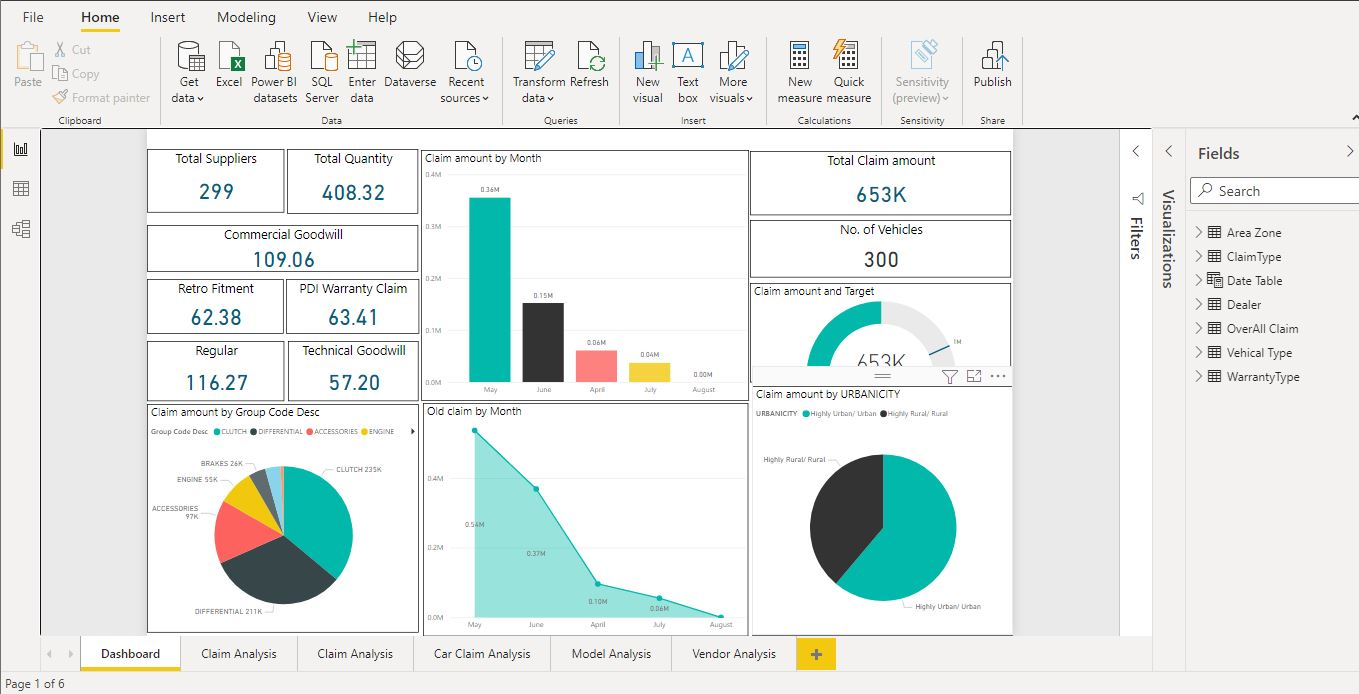

What the dashboard file says about the page in this screenshot:
{"tool":"powerbi","page":{"name":"Dashboard","canvas":[1280,720],"ordinal":0},"visuals":[{"type":"gauge","title":"Claim amount and Target","fields":{"TargetValue":["Sum(Vehical Type.OLDCLAIM)"],"Y":["Sum(Vehical Type.ClaimAMT)"]},"box":[891.4,198.1,386.1,146.7],"z":0},{"type":"card","title":"Total Quantity","fields":{"Values":["Sum(ClaimType.Quantity)"]},"box":[206.7,0,194.1,95.6],"z":1000},{"type":"card","title":"Total Suppliers","fields":{"Values":["Area Zone.Measure 2"]},"box":[0,0,202.5,94.2],"z":2000},{"type":"pieChart","title":"Claim amount by URBANICITY","fields":{"Category":["Vehical Type.URBANICITY"],"Y":["Sum(Vehical Type.ClaimAMT)"]},"box":[893.9,349.8,386.1,368.6],"z":3000},{"type":"columnChart","title":"Claim amount by Month","fields":{"Category":["Date Table.Month"],"Y":["Sum(Vehical Type.ClaimAMT)"]},"box":[404.8,1.7,485.5,371.2],"z":4000},{"type":"card","title":"Technical Goodwill","fields":{"Values":["Area Zone.Claim Type 1"]},"box":[208.3,283.9,193.2,89],"z":5000},{"type":"pieChart","title":"Claim amount by Group Code Desc","fields":{"Category":["WarrantyType.Group Code Desc"],"Y":["Sum(Vehical Type.ClaimAMT)"]},"box":[0,377.4,402.4,338.5],"z":6000},{"type":"stackedAreaChart","title":"Old claim by Month","fields":{"Category":["Date Table.Month"],"Y":["Sum(Vehical Type.OLDCLAIM)"]},"box":[407.4,374.8,481.4,344.8],"z":7000},{"type":"card","title":"Commercial Goodwill","fields":{"Values":["Area Zone.Commercial Goodwill"]},"box":[0,112.5,401.5,68.9],"z":8000},{"type":"card","title":"PDI Warranty Claim","fields":{"Values":["Area Zone.PDI Warranty Claim"]},"box":[204.9,191.5,196.5,80.6],"z":9000},{"type":"card","title":"Regular","fields":{"Values":["Area Zone.Regular"]},"box":[0,283.9,203.3,89],"z":10000},{"type":"card","title":"Retro Fitment","fields":{"Values":["Area Zone.Retro Fitment"]},"box":[0,191.5,201.6,80.6],"z":11000},{"type":"card","title":"Total Claim amount","fields":{"Values":["Sum(Vehical Type.ClaimAMT)"]},"box":[891.4,2.5,386.1,95.3],"z":12000},{"type":"card","title":"No. of Vehicles","fields":{"Values":["Count(Area Zone.VehicleID)"]},"box":[891.4,105.3,386.1,85.2],"z":13000}]}

Visuals, with their boxes on the page's 1280x720 design canvas (x1, y1, x2, y2). These are canvas units, not pixel positions in the 1359x694 screenshot, which may show the page scaled, cropped or inside an application window:
"Claim amount and Target" gauge: BBox(891, 198, 1278, 345)
"Total Quantity" card: BBox(207, 0, 401, 96)
"Total Suppliers" card: BBox(0, 0, 202, 94)
"Claim amount by URBANICITY" pieChart: BBox(894, 350, 1280, 718)
"Claim amount by Month" columnChart: BBox(405, 2, 890, 373)
"Technical Goodwill" card: BBox(208, 284, 402, 373)
"Claim amount by Group Code Desc" pieChart: BBox(0, 377, 402, 716)
"Old claim by Month" stackedAreaChart: BBox(407, 375, 889, 720)
"Commercial Goodwill" card: BBox(0, 112, 402, 181)
"PDI Warranty Claim" card: BBox(205, 192, 401, 272)
"Regular" card: BBox(0, 284, 203, 373)
"Retro Fitment" card: BBox(0, 192, 202, 272)
"Total Claim amount" card: BBox(891, 2, 1278, 98)
"No. of Vehicles" card: BBox(891, 105, 1278, 190)
